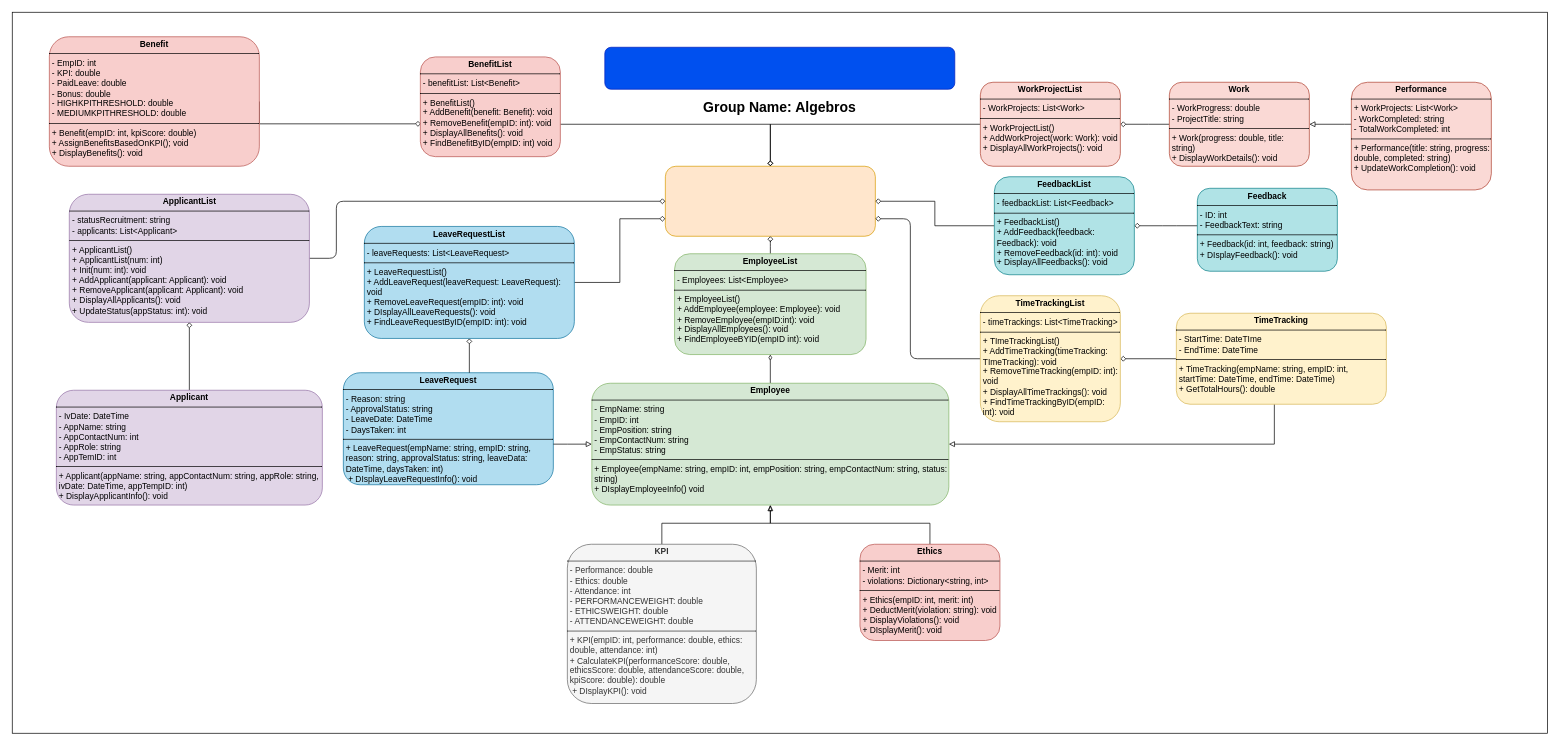
Some shapes in this 1560 by 746 pixel diagram are drawn without their labels. The shapes that lost their labels are listed below. From the top down, each one's box as (x1, y1, x2, y2) in pixels, then its label:
(604, 47, 955, 89): HR Management Website
(665, 166, 875, 236): MainProgram -Main(args: string[]): void
